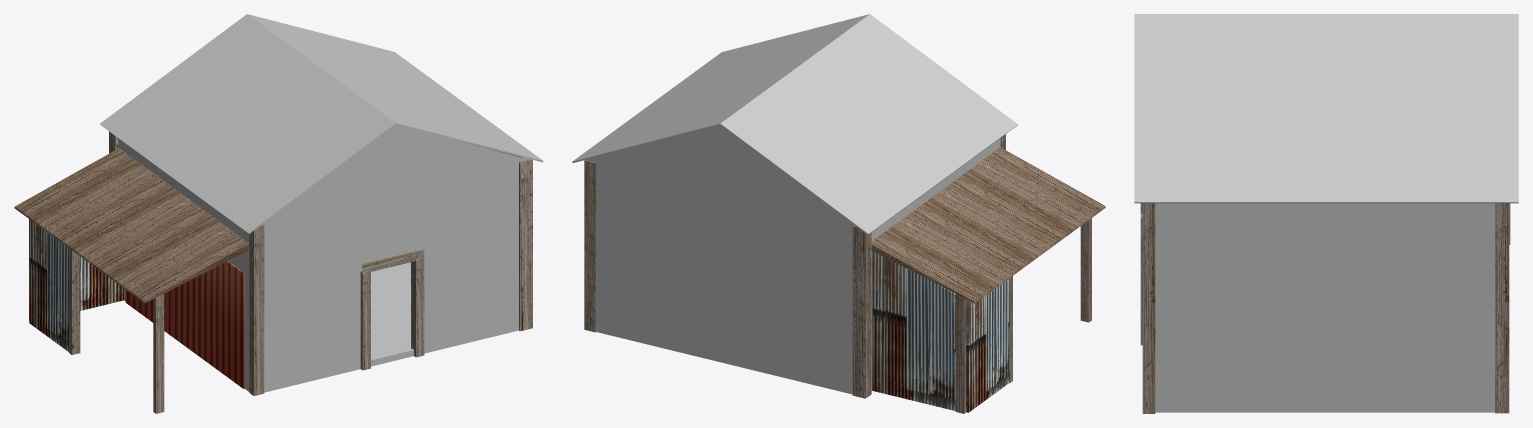
Rendered from FarmBuilding2.fbx.
The picture shows the model from 3 angles, left to right: view 1: azimuth 30°, elevation 25°; view 2: azimuth 150°, elevation 25°; view 3: azimuth 270°, elevation 25°; orthographic projection. The views are drawn at different scales.
Parts seen in each view (by area): view 1: FarmHouseShape2, polySurface2; view 2: FarmHouseShape2, polySurface2; view 3: FarmHouseShape2.
Boxes of the visible parts, x1,y1,x2,y2 form: FarmHouseShape2: (100, 14, 543, 395); polySurface2: (14, 148, 249, 413); FarmHouseShape2: (572, 14, 1017, 398); polySurface2: (871, 147, 1105, 413); FarmHouseShape2: (1134, 14, 1518, 413).
Bounding box in the file's own units: 1126 × 666 × 744.
